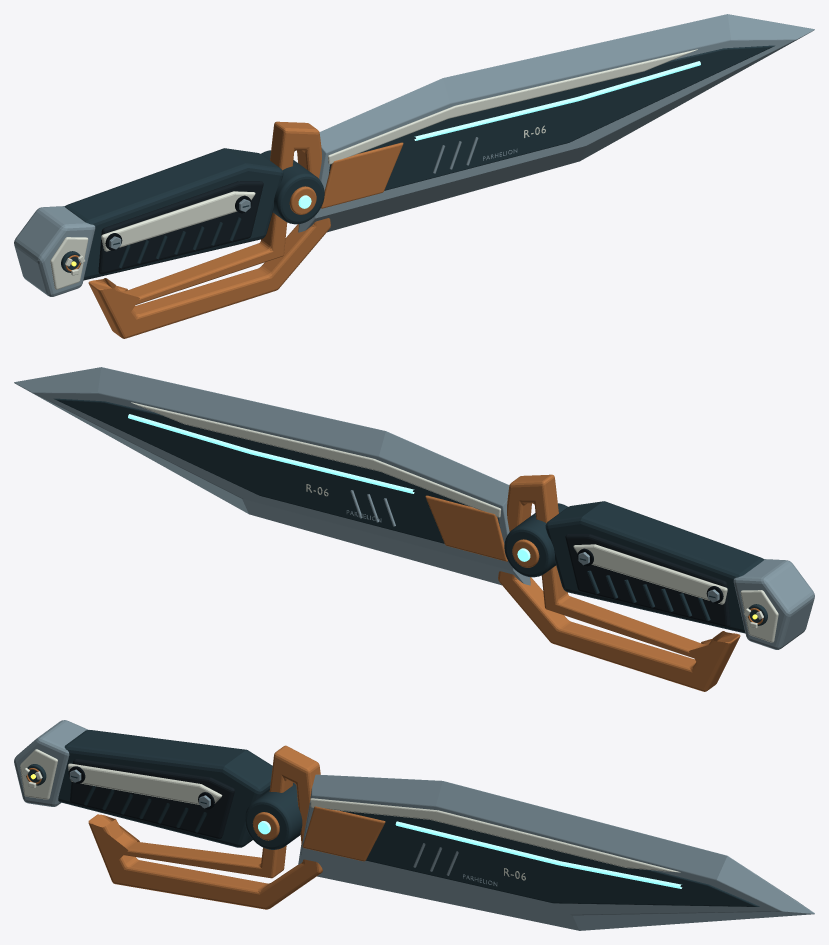
The model's file is 06_Refract_Blade.glb.
3 renders of one model, top to bottom at view 1: azimuth 30°, elevation 25°; view 2: azimuth 150°, elevation 25°; view 3: azimuth 330°, elevation 25°, orthographic.
Visible parts, largest first — view 1: 06_Refract_Blade__body; view 2: 06_Refract_Blade__body; view 3: 06_Refract_Blade__body.
Part boxes in pixels (box(x1,y1,x2,y2)): 06_Refract_Blade__body: box(14, 14, 814, 338); 06_Refract_Blade__body: box(14, 367, 814, 691); 06_Refract_Blade__body: box(14, 720, 814, 930).
Size of the model in its own units: 2.13 by 0.4616 by 0.208.
